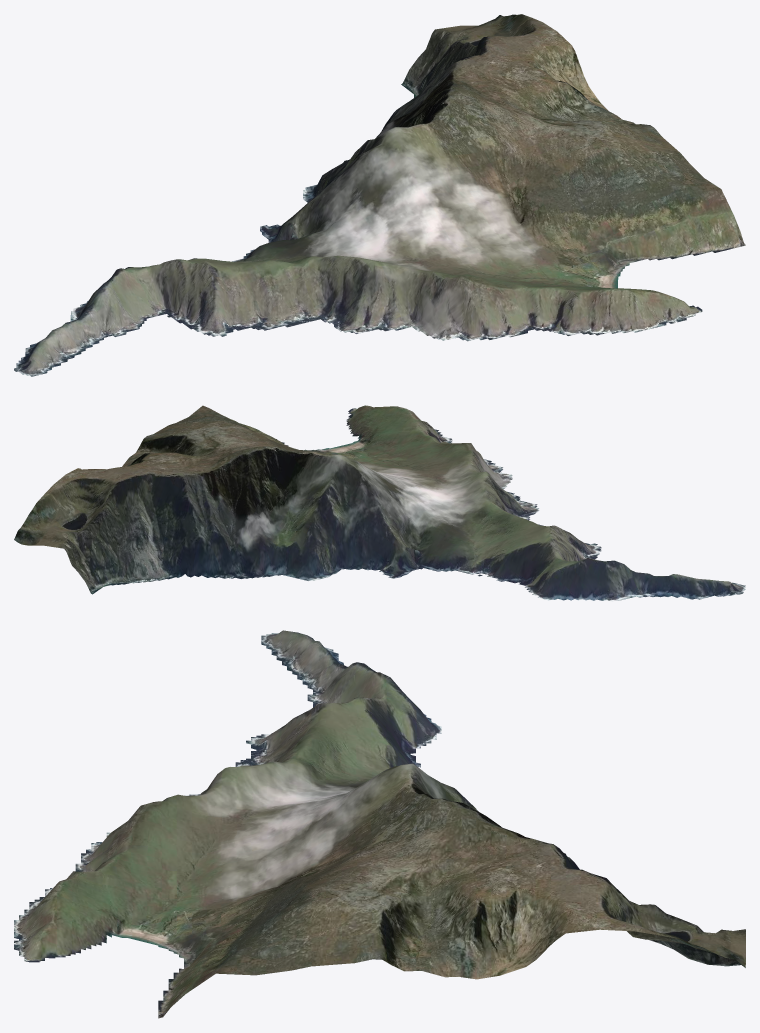
The model's file is achil_2.glb.
The picture shows the model from 3 angles, top to bottom: view 1: azimuth 30°, elevation 25°; view 2: azimuth 150°, elevation 25°; view 3: azimuth 270°, elevation 25°; orthographic projection. The views are drawn at different scales.
Parts seen in each view (by area): view 1: TerrainNode; view 2: TerrainNode; view 3: TerrainNode.
Boxes of the visible parts, bbox=[...] form: TerrainNode: bbox=[14, 14, 745, 376]; TerrainNode: bbox=[14, 405, 745, 601]; TerrainNode: bbox=[14, 630, 745, 1018].
Size of the model in its own units: 93.4 by 13.65 by 74.67.
1 material, 1 textured.
